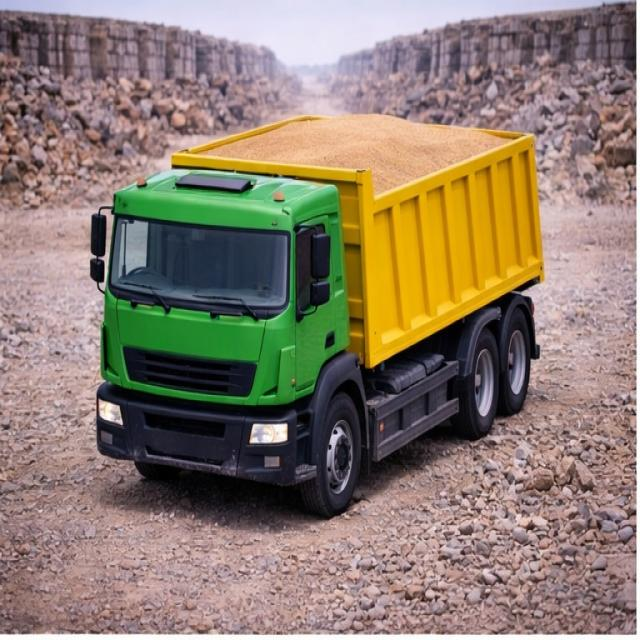Box: (171, 110, 534, 188)
Truck: (86, 61, 548, 508)
